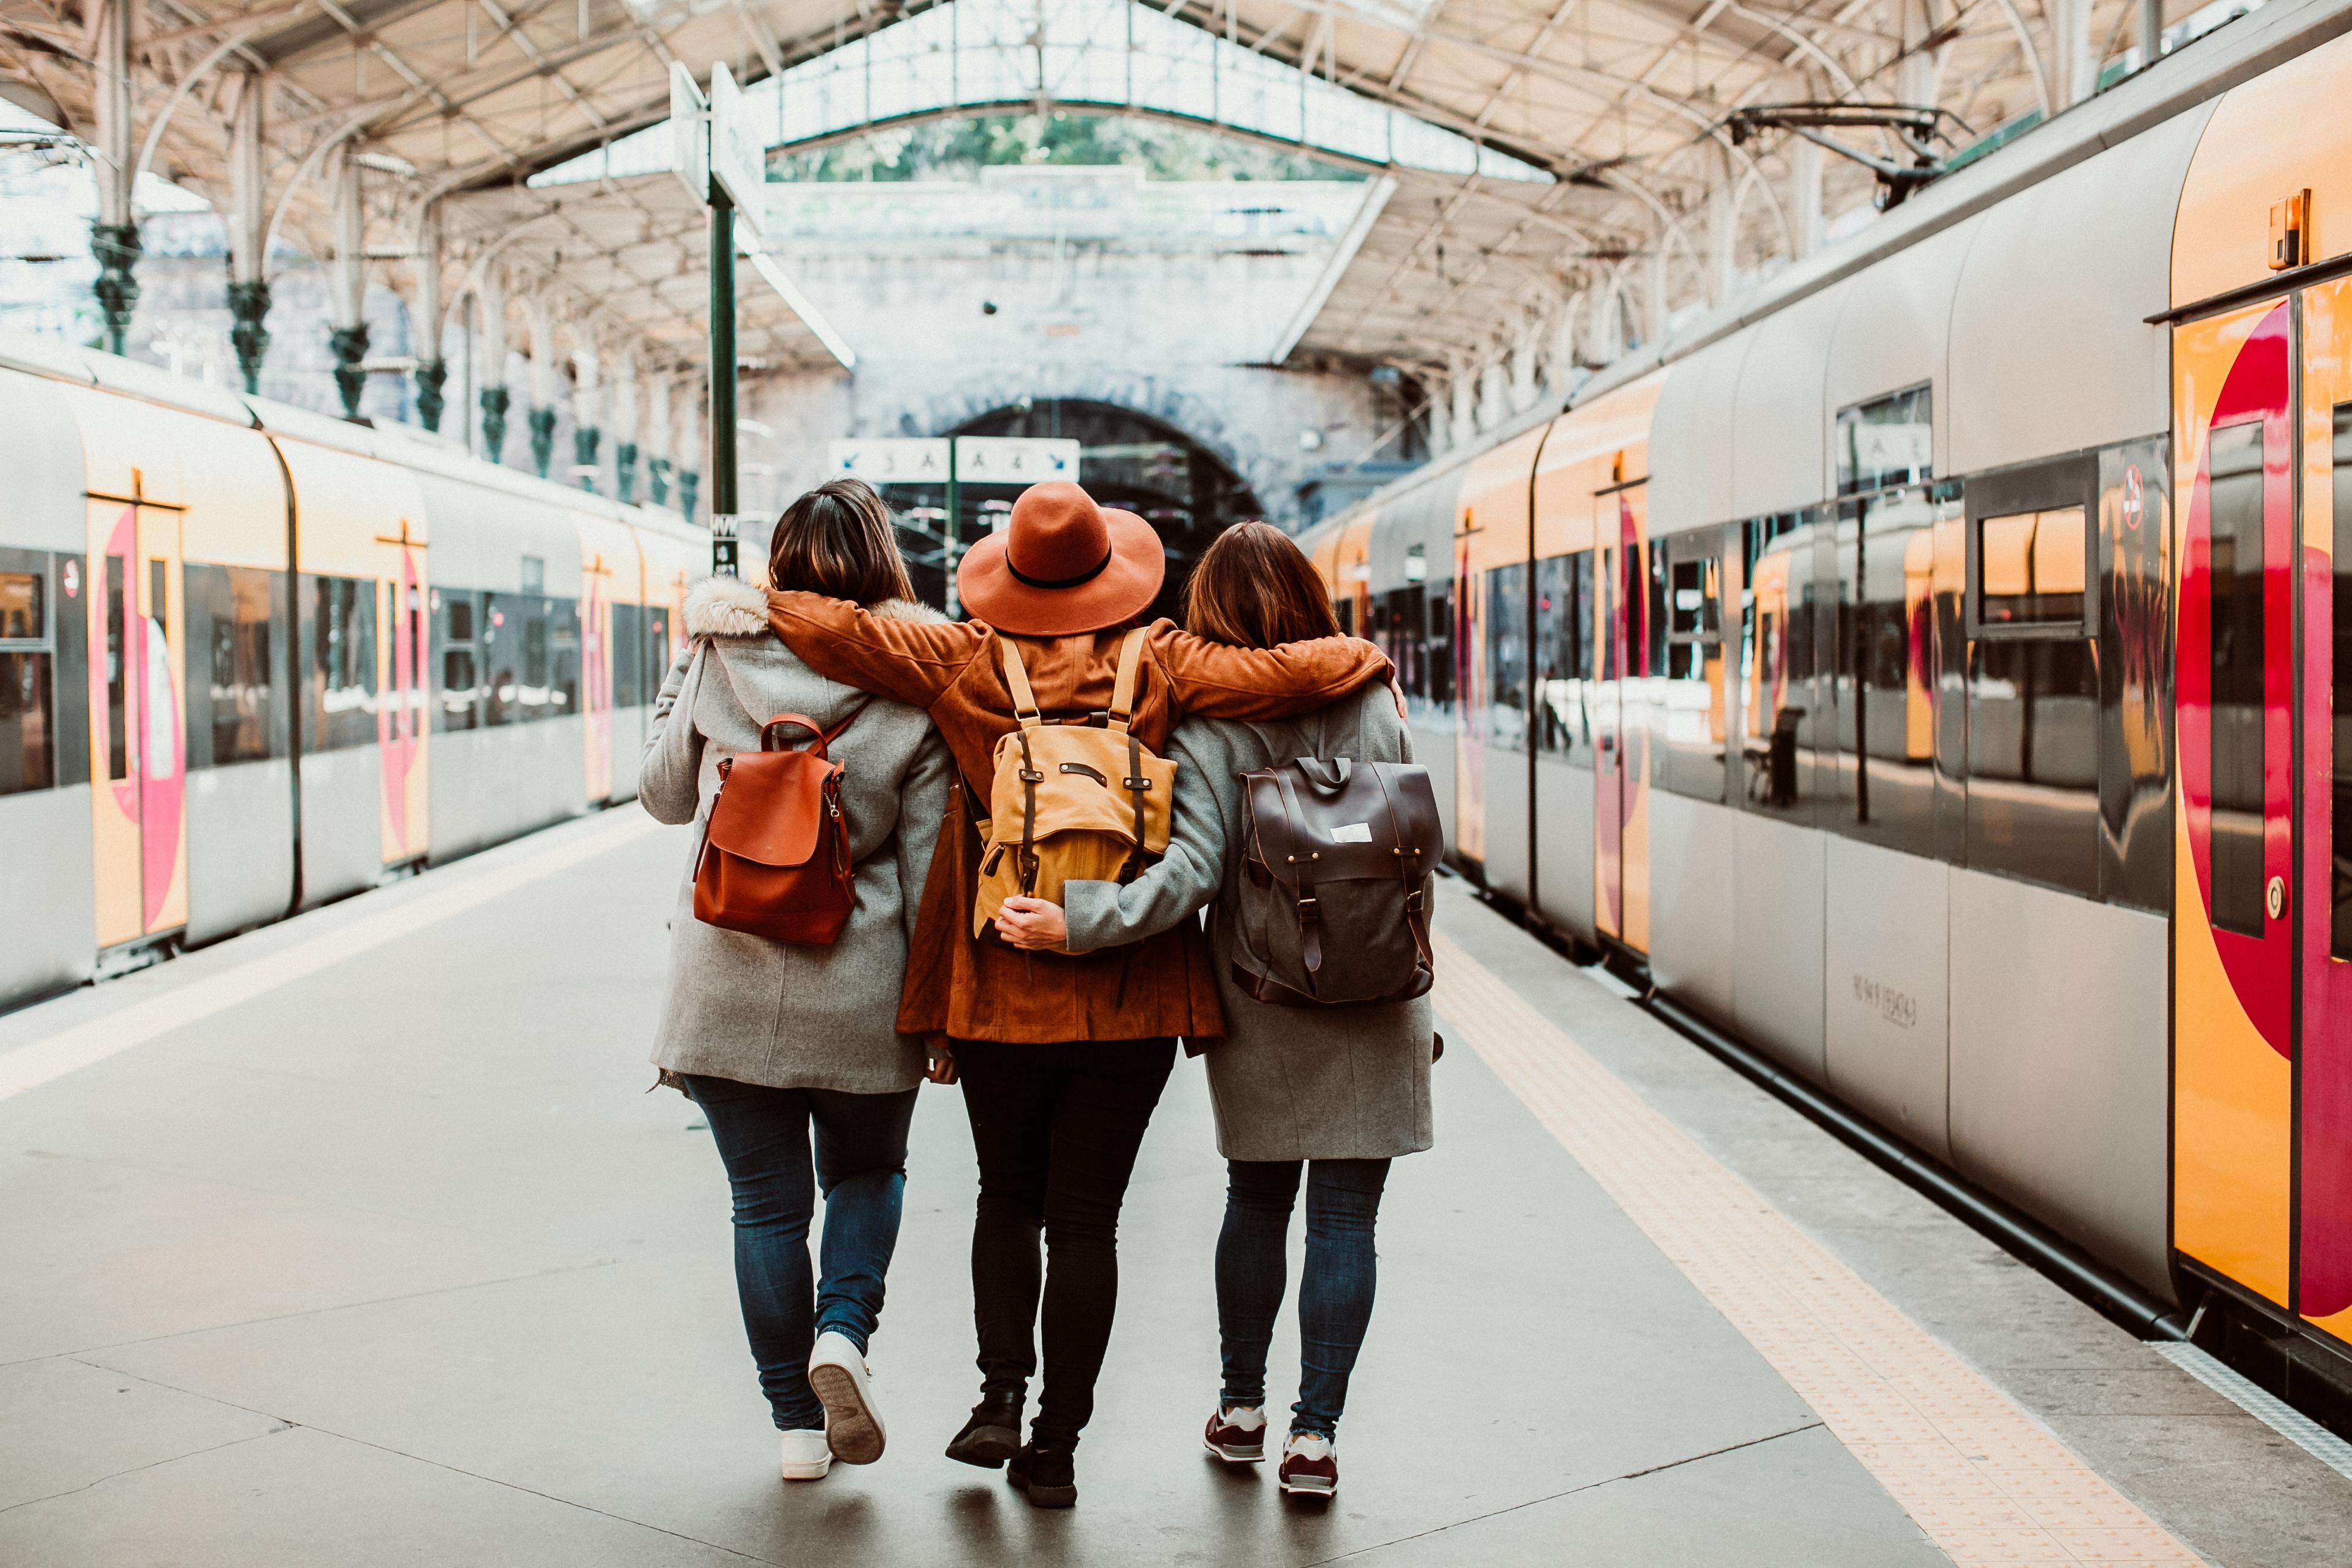Person: (665, 463, 915, 1378), (962, 523, 1176, 1568), (1200, 523, 1402, 1473)
